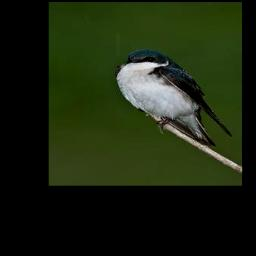Swallow: (113, 46, 233, 147)
